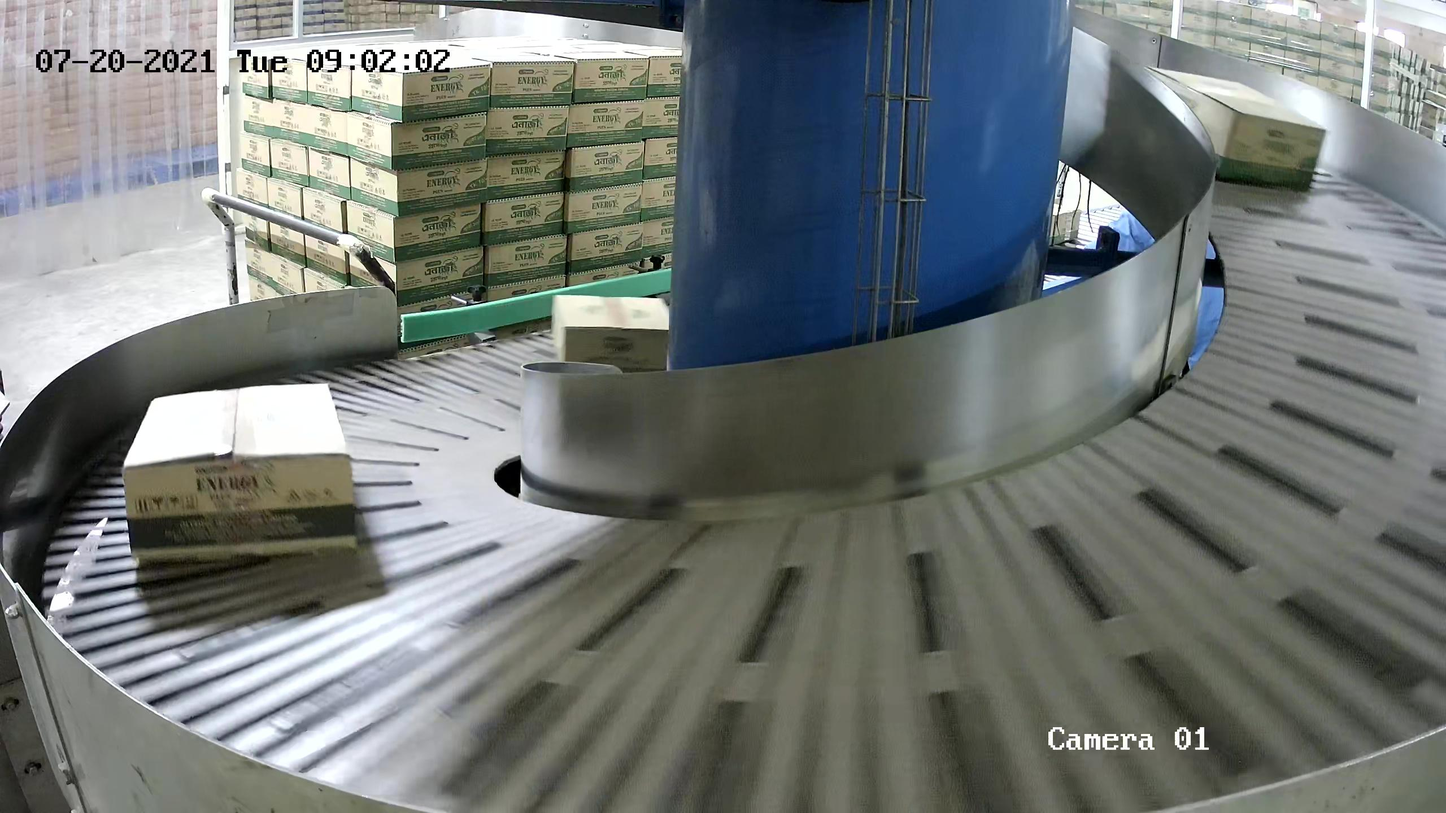Box: (116, 378, 364, 567), (1132, 63, 1331, 193), (548, 288, 692, 407)
